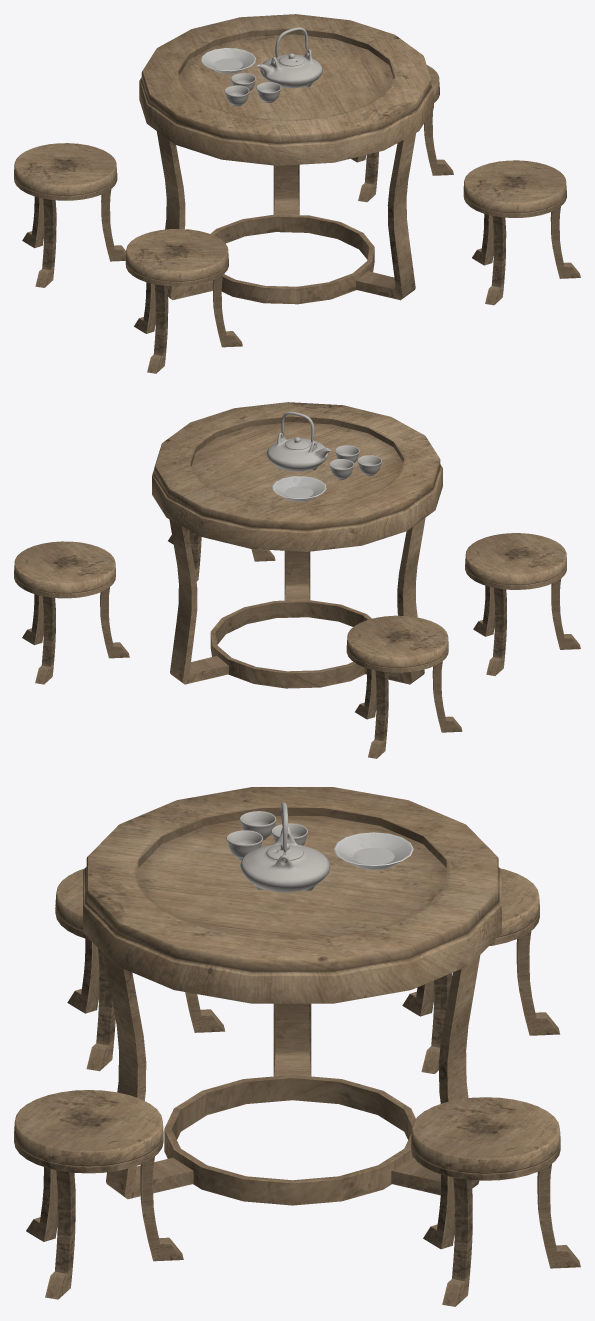
Rendered from Room.fbx.
The picture shows the model from 3 angles, top to bottom: view 1: azimuth 30°, elevation 25°; view 2: azimuth 150°, elevation 25°; view 3: azimuth 270°, elevation 25°; orthographic projection. The views are drawn at different scales.
Parts seen in each view (by area): view 1: Cylinder, Cube.002; view 2: Cylinder, Cube.002; view 3: Cylinder, Cube.002.
Part boxes in pixels (box(x1,y1,x2,y2)): Cylinder: box(139, 14, 433, 304); Cube.002: box(14, 65, 580, 373); Cylinder: box(152, 402, 442, 688); Cube.002: box(14, 530, 580, 758); Cylinder: box(83, 787, 501, 1205); Cube.002: box(14, 868, 580, 1306).
Bounding box in the file's own units: 7.22 × 3.79 × 5.62.
